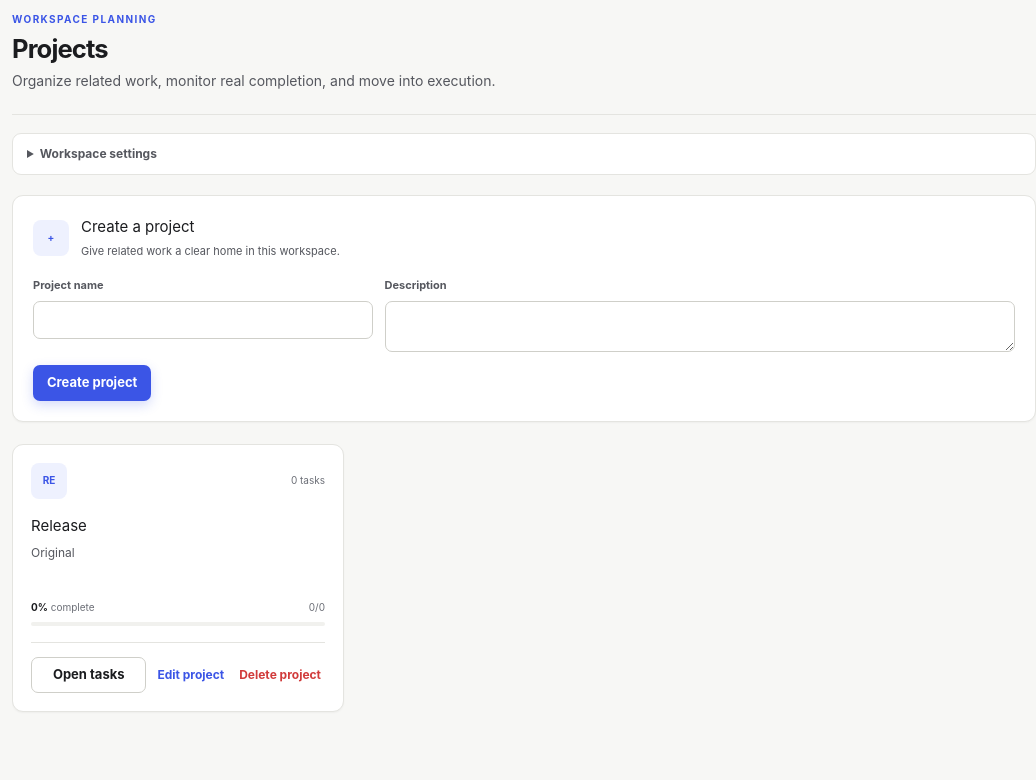
Test: sends only edited project fields and shows dependency errors on delete
Click the button "Edit project" at (191, 675), box [153,662,228,688]
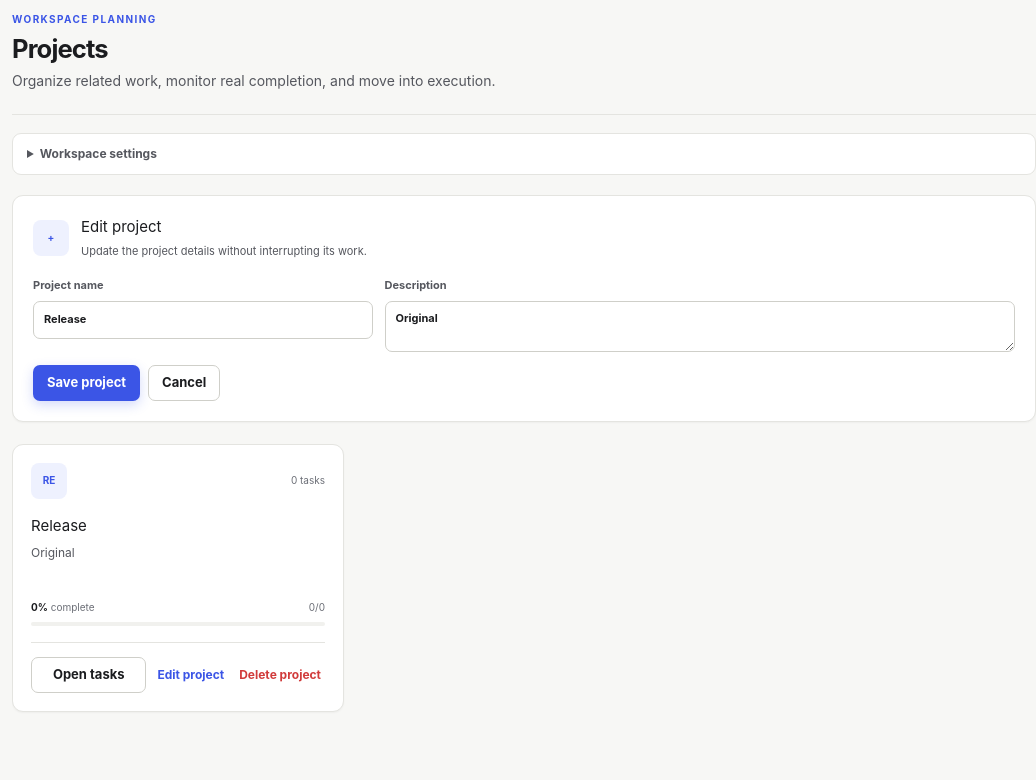
Replace the text in the field labelled "Project name" with "Renamed" at (203, 320), box [33,301,372,339]
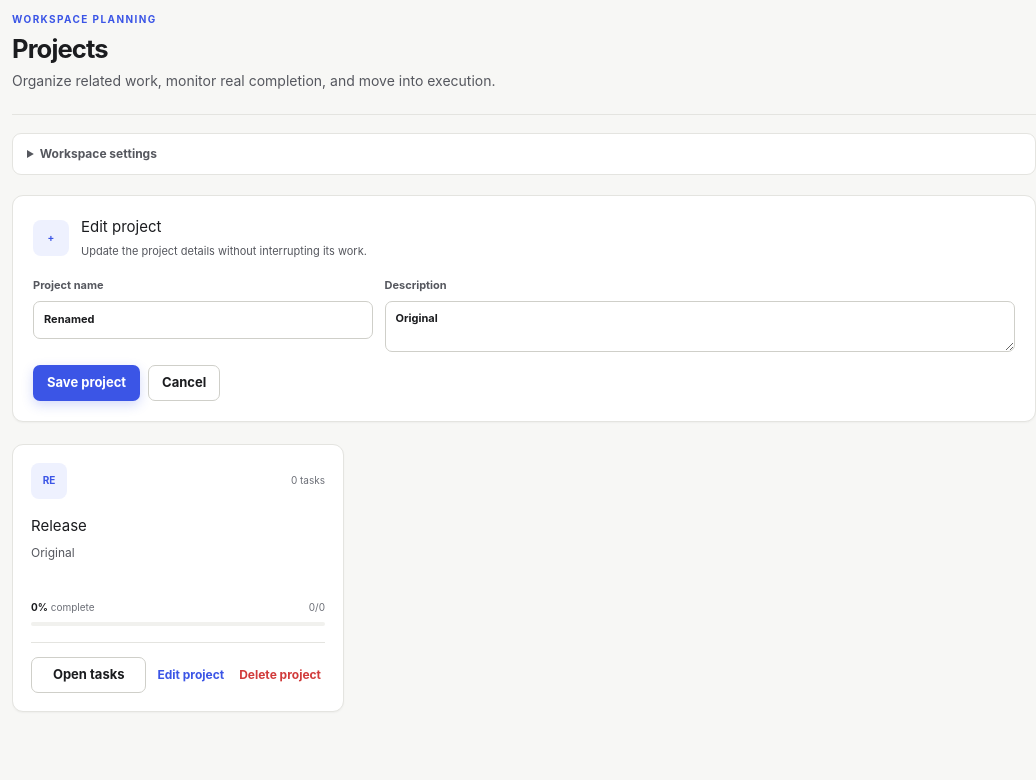
Click the button "Save project" at (86, 383), box [33,365,140,401]
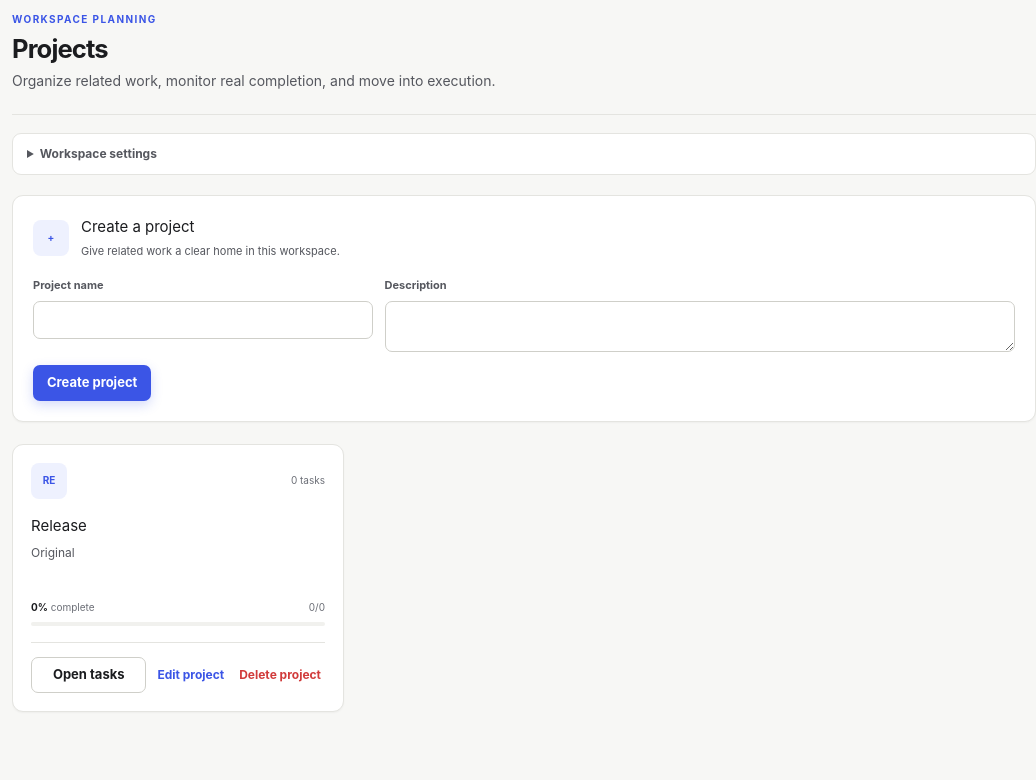
Click the button "Delete project" at (280, 675), box [235,662,325,688]
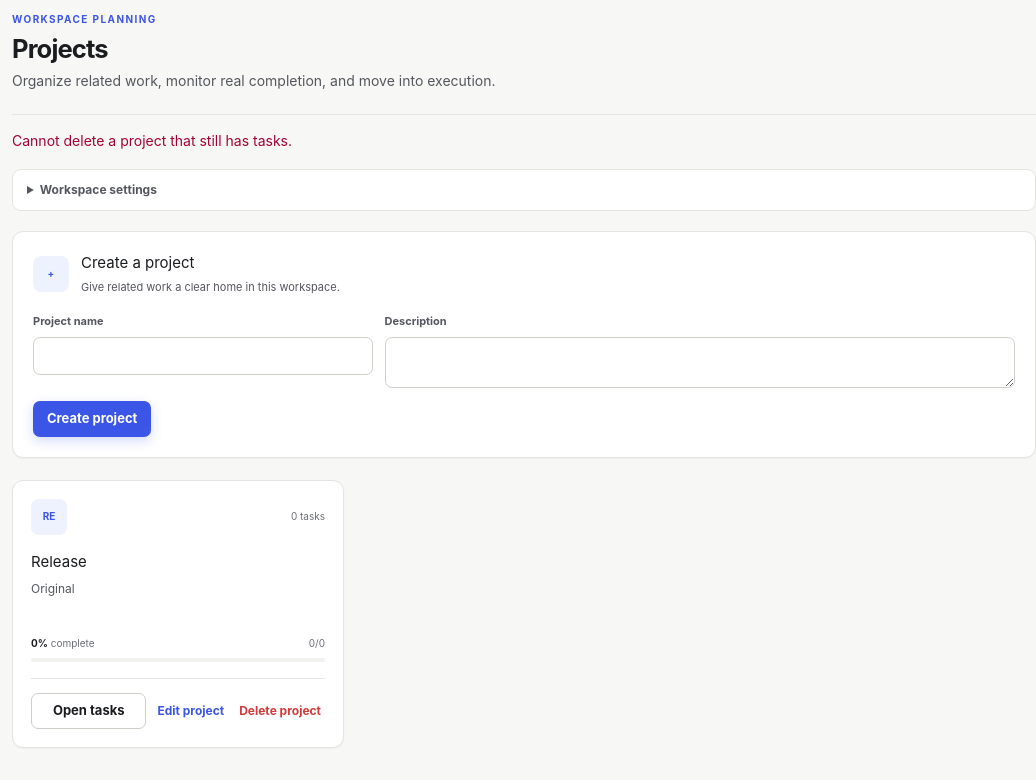
Expected: the message shows "still has tasks", [12,132,292,149]
